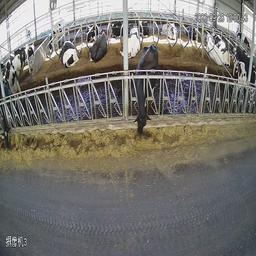cow: (133, 49, 160, 138), (234, 45, 255, 100), (14, 46, 35, 85), (204, 29, 223, 65), (89, 27, 108, 61), (59, 40, 79, 68), (48, 16, 63, 52), (128, 21, 140, 57), (161, 18, 178, 41), (83, 21, 97, 40), (109, 17, 122, 36), (185, 23, 199, 40), (139, 15, 149, 38)
